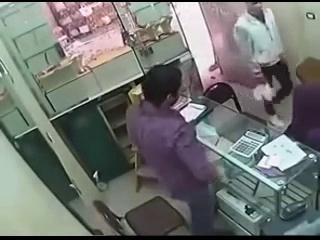Normal: (126, 65, 222, 232), (233, 3, 294, 108)
